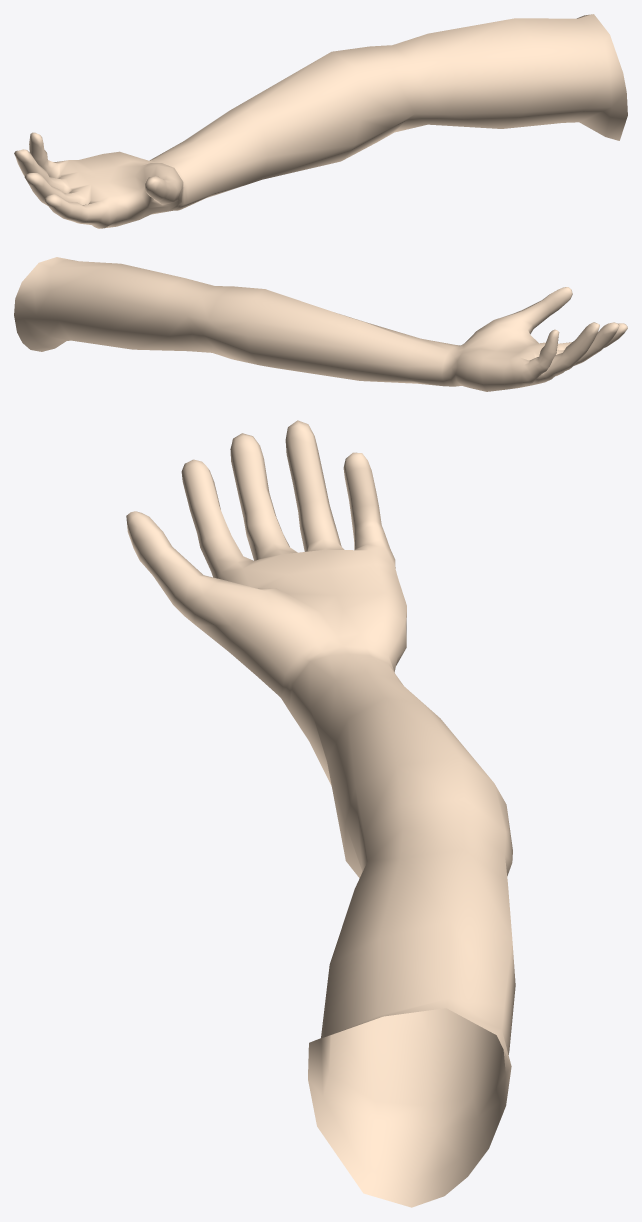
File: leftHand.obj
3 views of the same model, one above another, from view 1: azimuth 30°, elevation 25°; view 2: azimuth 150°, elevation 25°; view 3: azimuth 270°, elevation 25° (orthographic). The views are drawn at different scales.
Visible parts, largest first — view 1: FpsArms.2.001_FpsArms.2.002; view 2: FpsArms.2.001_FpsArms.2.002; view 3: FpsArms.2.001_FpsArms.2.002.
Part boxes in pixels (x1=…): FpsArms.2.001_FpsArms.2.002: x1=14, y1=14, x2=627, y2=228; FpsArms.2.001_FpsArms.2.002: x1=14, y1=257, x2=627, y2=391; FpsArms.2.001_FpsArms.2.002: x1=126, y1=420, x2=515, y2=1207.
Bounding box in the file's own units: 0.7849 × 0.1891 × 0.2448.
